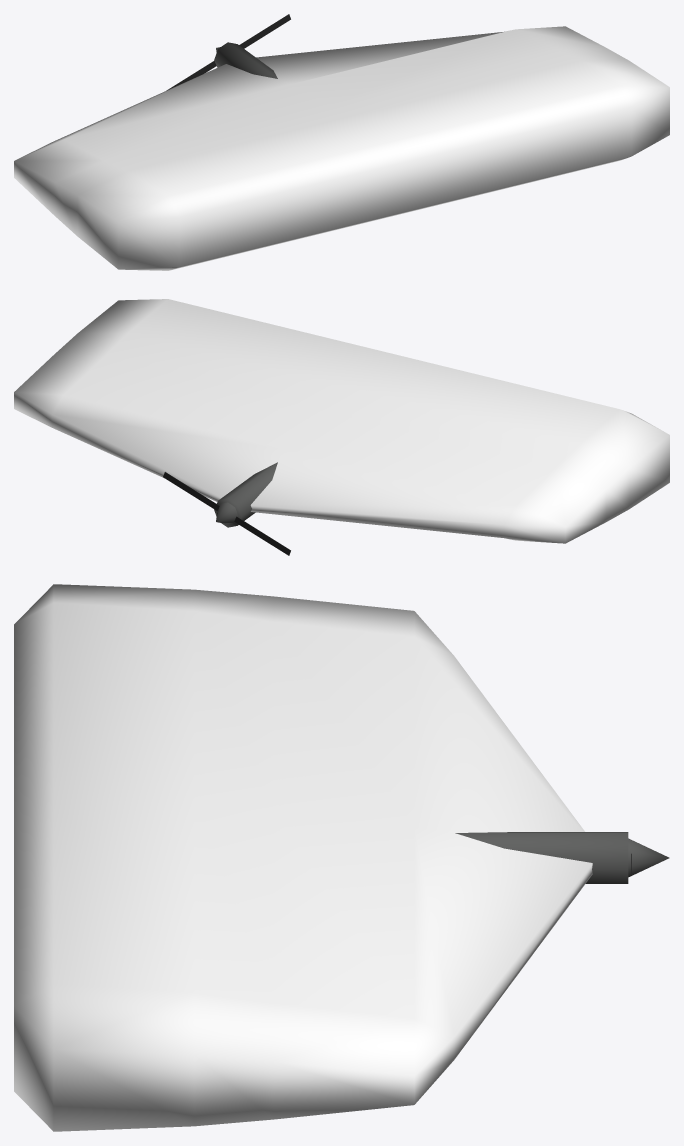
The model's file is granat-1_drone.fbx.
The picture shows the model from 3 angles, top to bottom: view 1: azimuth 30°, elevation 25°; view 2: azimuth 150°, elevation 25°; view 3: azimuth 270°, elevation 25°; orthographic projection. The views are drawn at different scales.
Visible parts, largest first — view 1: granat-1; view 2: granat-1; view 3: granat-1.
Part boxes in pixels (left/top/right/bottom): granat-1: left=14, top=14, right=669, bottom=270; granat-1: left=14, top=299, right=669, bottom=555; granat-1: left=14, top=584, right=669, bottom=1131.
Size of the model in its own units: 600 by 77.73 by 358.
